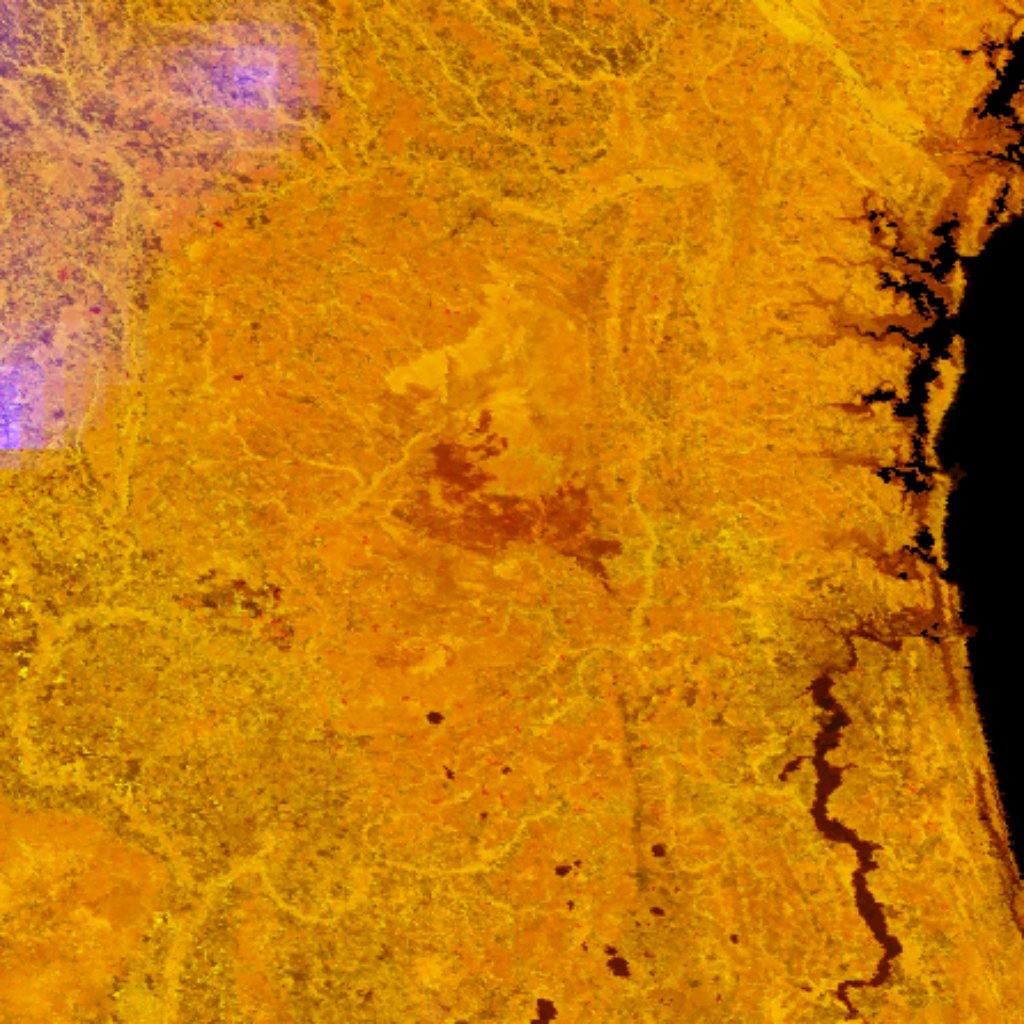fire: (0, 0, 1024, 1024), (1006, 85, 1024, 124), (1013, 152, 1020, 161), (1020, 147, 1024, 154)
